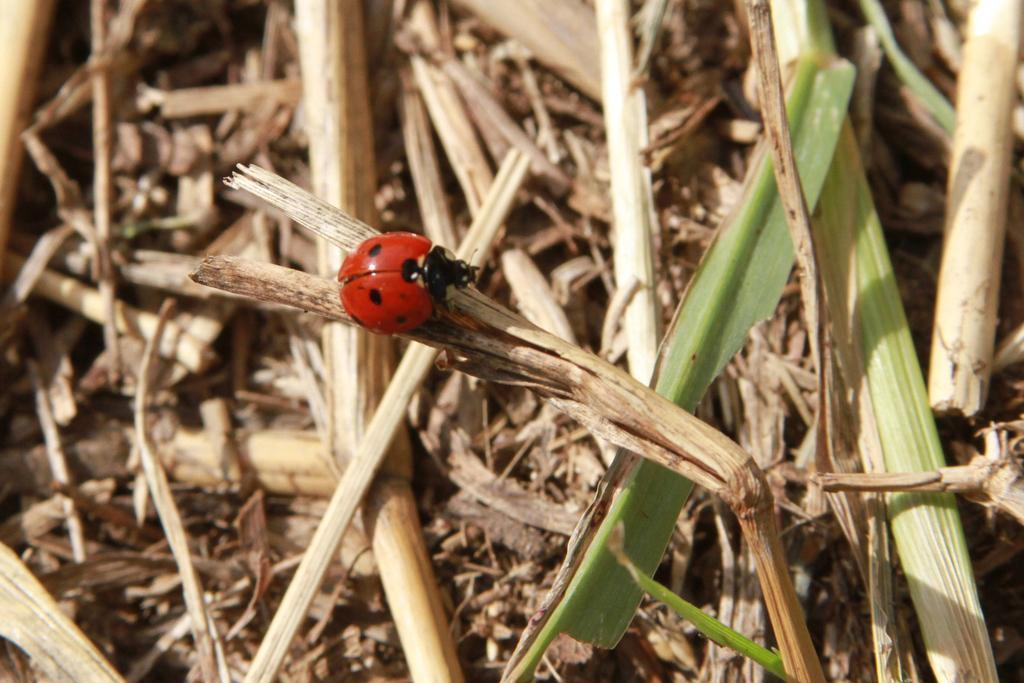ladybug: (337, 231, 485, 339)
